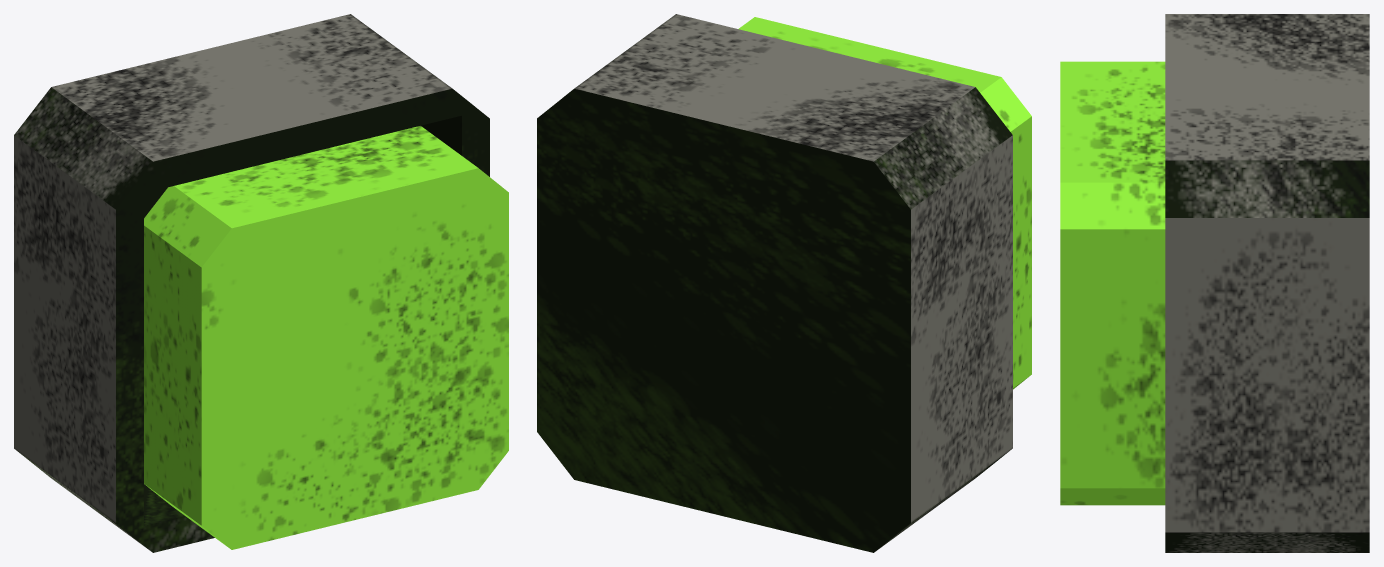
The model's file is Env_Button_Open_Close.fbx.
3 views of the same model, side by side, from view 1: azimuth 30°, elevation 25°; view 2: azimuth 150°, elevation 25°; view 3: azimuth 270°, elevation 25° (orthographic).
Visible parts, largest first — view 1: Button.001, Button; view 2: Button, Button.001; view 3: Button, Button.001.
Part boxes in pixels (x1,y1,x2,y2): Button.001: [144, 126, 508, 549]; Button: [14, 14, 489, 552]; Button: [537, 14, 1012, 552]; Button.001: [738, 17, 1031, 389]; Button: [1165, 14, 1369, 552]; Button.001: [1060, 61, 1165, 505].
Bounding box in the file's own units: 11.73 × 11.73 × 8.38.
